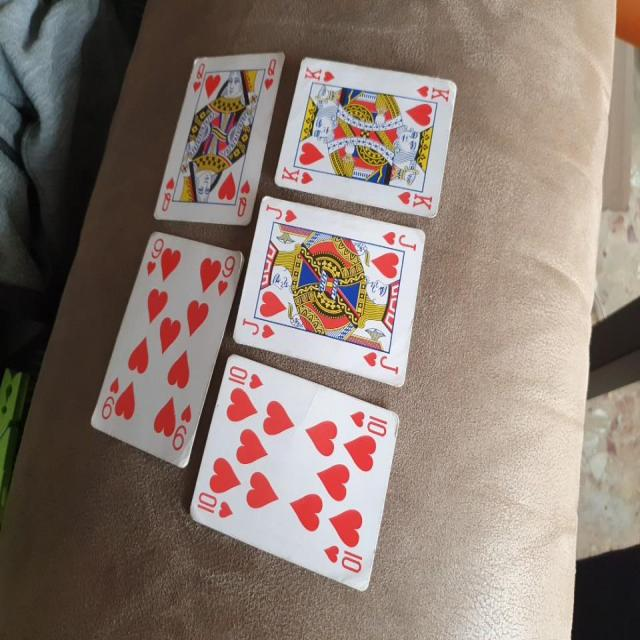10 Hearts: (184, 354, 401, 604)
9 Hearts: (83, 220, 246, 474)
J Hearts: (232, 185, 429, 392)
K Hearts: (276, 54, 460, 222)
Q Hearts: (150, 53, 287, 226)
